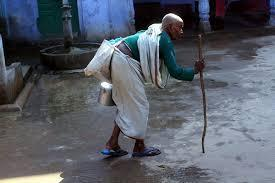Human: (89, 9, 199, 171)
